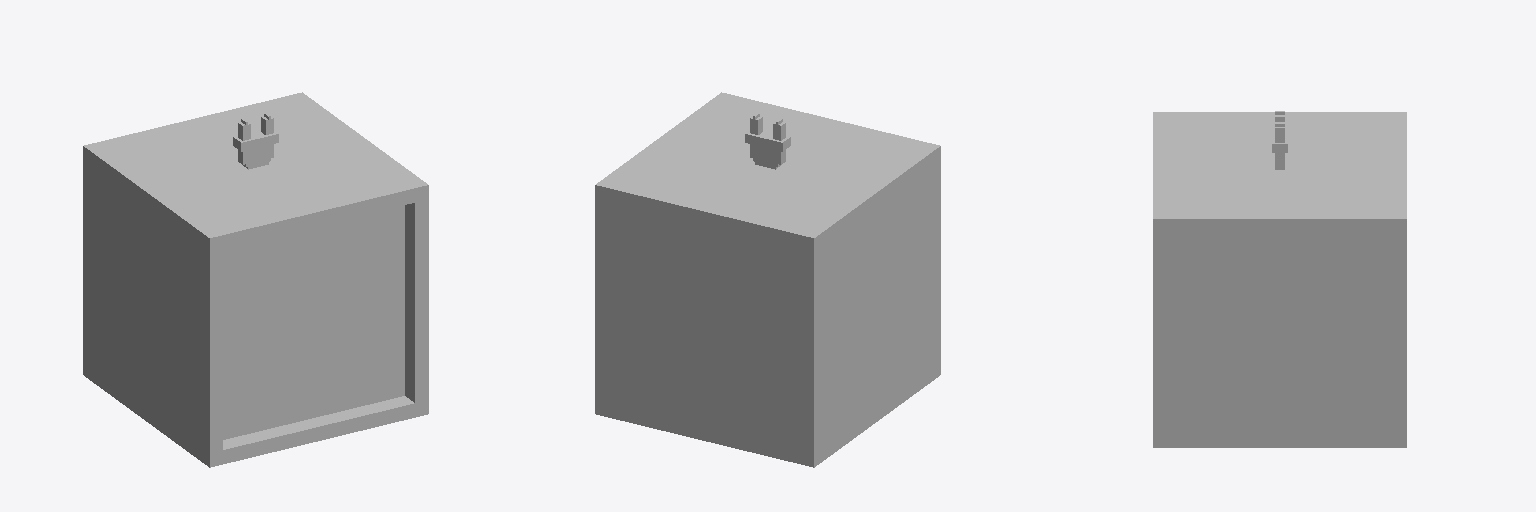
The model's file is chargeBlock.obj.
3 renders of one model, left to right at view 1: azimuth 30°, elevation 25°; view 2: azimuth 150°, elevation 25°; view 3: azimuth 270°, elevation 25°, orthographic.
Bounding box in the file's own units: 1.99 × 2.41 × 1.99.